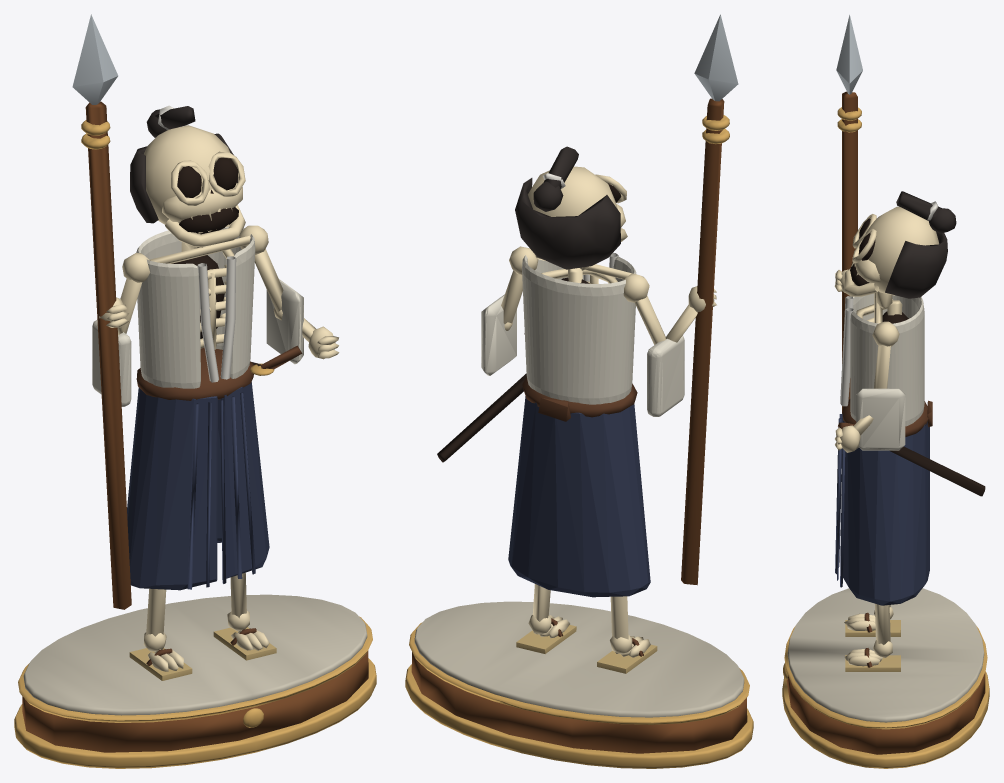
The model's file is samurai_knight_l1.glb.
3 views of the same model, side by side, from view 1: azimuth 30°, elevation 25°; view 2: azimuth 150°, elevation 25°; view 3: azimuth 270°, elevation 25° (orthographic). The views are drawn at different scales.
Visible parts, largest first — view 1: FixedDetails, WoodBody, BrassTrim; view 2: FixedDetails, WoodBody, BrassTrim; view 3: FixedDetails, WoodBody, BrassTrim.
Part boxes in pixels (box(x1,y1,x2,y2)): FixedDetails: box(22, 14, 368, 752); WoodBody: box(23, 226, 367, 715); BrassTrim: box(14, 120, 376, 768); FixedDetails: box(411, 14, 747, 753); WoodBody: box(414, 255, 744, 717); BrassTrim: box(405, 115, 753, 768); FixedDetails: box(786, 14, 985, 754); WoodBody: box(787, 293, 984, 722); BrassTrim: box(782, 107, 989, 768).
Size of the model in its own units: 0.3264 by 0.676 by 0.2009.
